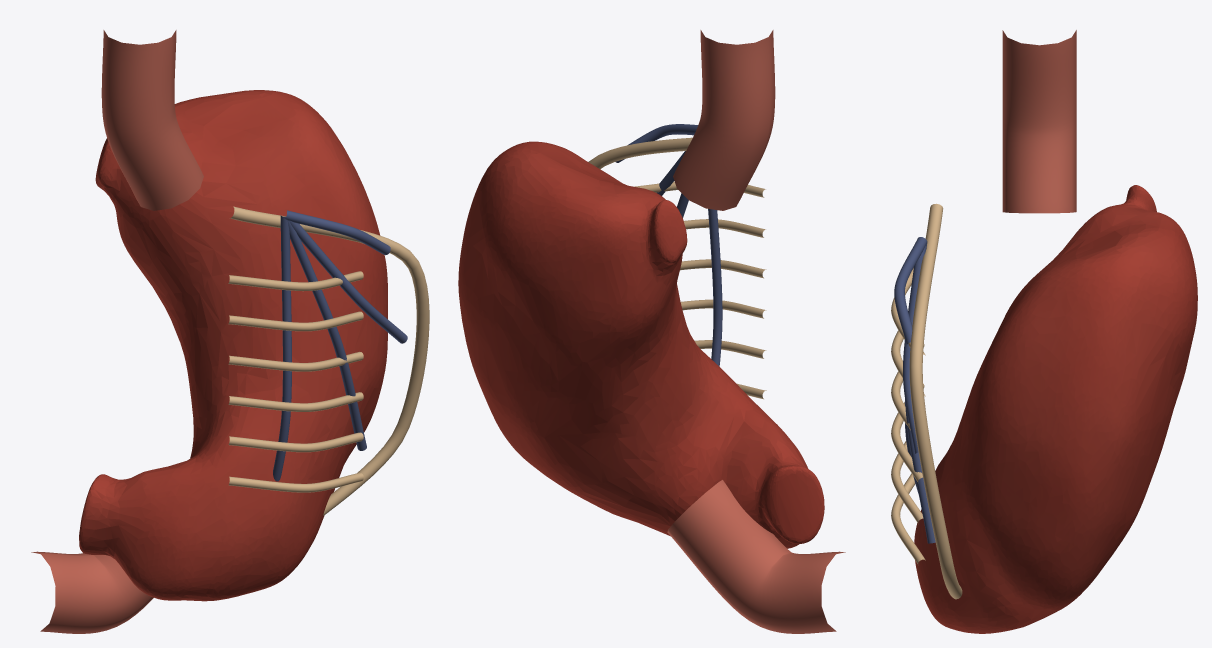
Rendered from stomach.eee4b021.glb.
3 renders of one model, left to right at view 1: azimuth 30°, elevation 25°; view 2: azimuth 150°, elevation 25°; view 3: azimuth 270°, elevation 25°, orthographic.
Visible parts, largest first — view 1: Stomach body, procedural-stomach-surface-1, procedural-stomach-surface-2, procedural-stomach-surface-3, procedural-stomach-surface-13, procedural-stomach-surface-12, procedural-stomach-surface-11, procedural-stomach-surface-5, procedural-stomach-surface-8, procedural-stomach-surface-9, procedural-stomach-surface-7, procedural-stomach-surface-6 (+2 smaller); view 2: Stomach body, procedural-stomach-surface-2, procedural-stomach-surface-1, procedural-stomach-surface-13, procedural-stomach-surface-3, procedural-stomach-surface-6, procedural-stomach-surface-7, procedural-stomach-surface-5, procedural-stomach-surface-10, procedural-stomach-surface-8; view 3: Stomach body, procedural-stomach-surface-1, procedural-stomach-surface-3, procedural-stomach-surface-10, procedural-stomach-surface-11, procedural-stomach-surface-12, procedural-stomach-surface-9, procedural-stomach-surface-8, procedural-stomach-surface-7, procedural-stomach-surface-6.
Part boxes in pixels (x1=…): Stomach body: x1=79, y1=90, x2=387, y2=601; procedural-stomach-surface-1: x1=101, y1=30, x2=203, y2=210; procedural-stomach-surface-2: x1=31, y1=551, x2=153, y2=633; procedural-stomach-surface-3: x1=230, y1=206, x2=429, y2=515; procedural-stomach-surface-13: x1=273, y1=215, x2=291, y2=481; procedural-stomach-surface-12: x1=284, y1=217, x2=366, y2=450; procedural-stomach-surface-11: x1=284, y1=218, x2=407, y2=343; procedural-stomach-surface-5: x1=228, y1=311, x2=363, y2=331; procedural-stomach-surface-8: x1=228, y1=432, x2=363, y2=452; procedural-stomach-surface-9: x1=228, y1=472, x2=363, y2=492; procedural-stomach-surface-7: x1=228, y1=392, x2=363, y2=411; procedural-stomach-surface-6: x1=228, y1=351, x2=363, y2=371; Stomach body: x1=458, y1=141, x2=824, y2=548; procedural-stomach-surface-2: x1=667, y1=480, x2=845, y2=633; procedural-stomach-surface-1: x1=673, y1=30, x2=775, y2=210; procedural-stomach-surface-13: x1=708, y1=209, x2=722, y2=366; procedural-stomach-surface-3: x1=588, y1=137, x2=692, y2=169; procedural-stomach-surface-6: x1=680, y1=259, x2=766, y2=278; procedural-stomach-surface-7: x1=680, y1=299, x2=766, y2=318; procedural-stomach-surface-5: x1=683, y1=219, x2=765, y2=237; procedural-stomach-surface-10: x1=615, y1=124, x2=698, y2=162; procedural-stomach-surface-8: x1=694, y1=340, x2=766, y2=358; Stomach body: x1=914, y1=185, x2=1197, y2=633; procedural-stomach-surface-1: x1=1002, y1=30, x2=1076, y2=213; procedural-stomach-surface-3: x1=909, y1=203, x2=962, y2=599; procedural-stomach-surface-10: x1=894, y1=237, x2=927, y2=344; procedural-stomach-surface-11: x1=903, y1=243, x2=927, y2=453; procedural-stomach-surface-12: x1=905, y1=402, x2=935, y2=543; procedural-stomach-surface-9: x1=891, y1=473, x2=925, y2=563; procedural-stomach-surface-8: x1=891, y1=441, x2=923, y2=522; procedural-stomach-surface-7: x1=891, y1=383, x2=924, y2=481; procedural-stomach-surface-6: x1=891, y1=344, x2=924, y2=430.
Bounding box in the file's own units: 2.07 × 3.21 × 1.49.
